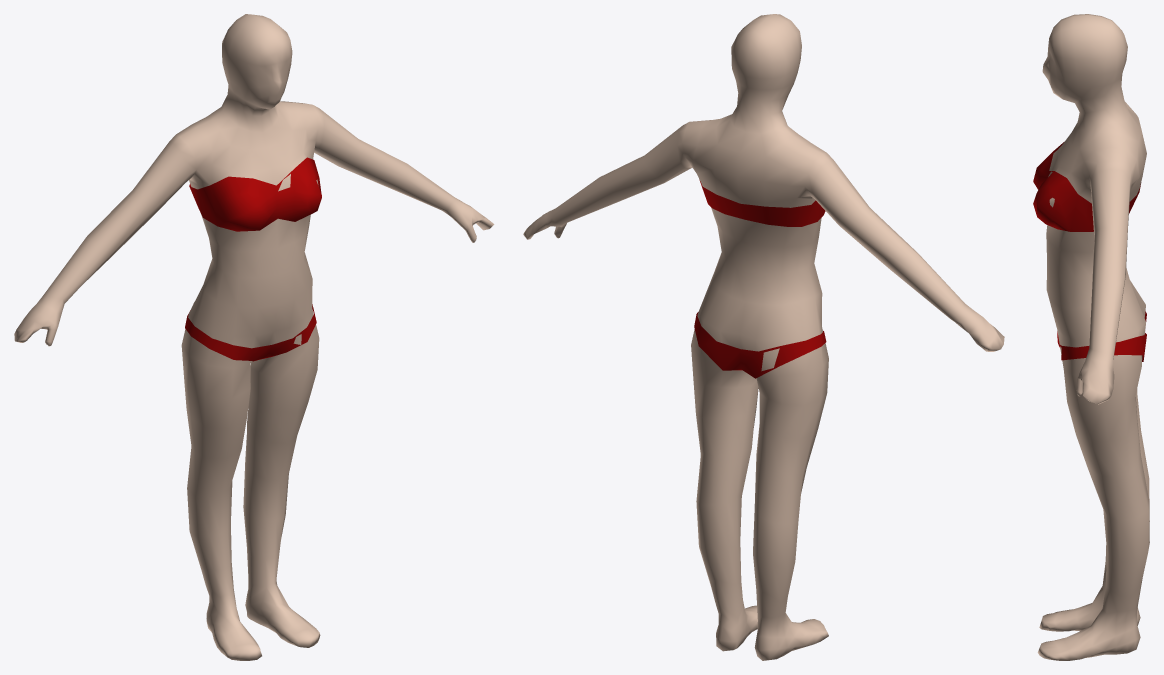
File: baigneur femme.fbx
The picture shows the model from 3 angles, left to right: view 1: azimuth 30°, elevation 25°; view 2: azimuth 150°, elevation 25°; view 3: azimuth 270°, elevation 25°; orthographic projection.
Parts seen in each view (by area): view 1: baigneur_femme; view 2: baigneur_femme; view 3: baigneur_femme.
Boxes of the visible parts, x1,y1,x2,y2 form: baigneur_femme: (14, 14, 494, 660); baigneur_femme: (523, 14, 1004, 660); baigneur_femme: (1033, 14, 1149, 660).
Bounding box in the file's own units: 138 × 172 × 29.1.
